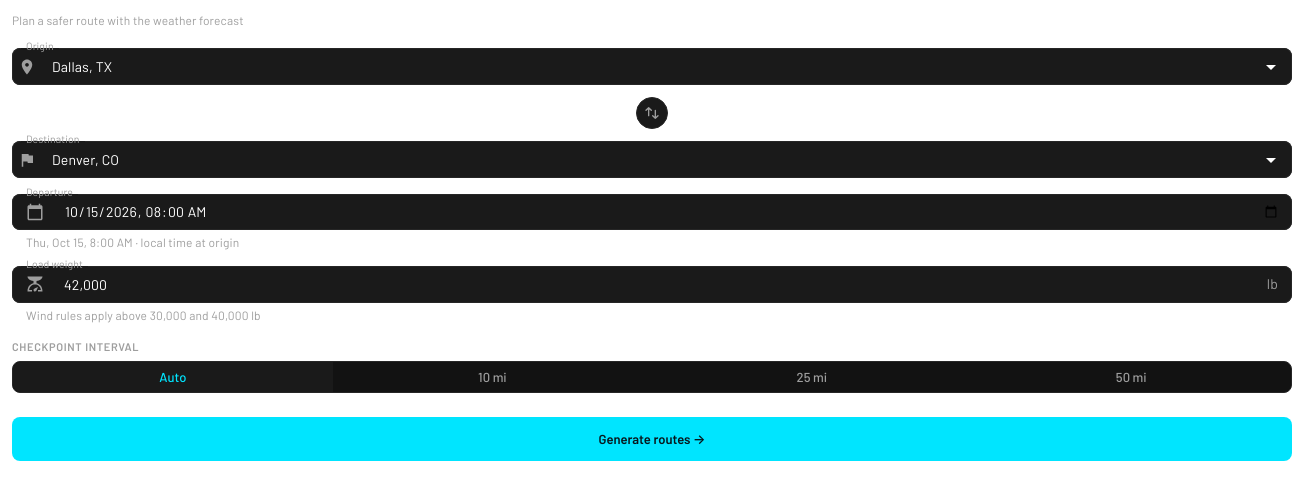
TripForm Component › renders server field errors under the right fields
This screenshot has width=1304, height=478.
Click the button with test id "generate-routes-button" at [652, 439], box x1=12 y1=417 x2=1292 y2=461
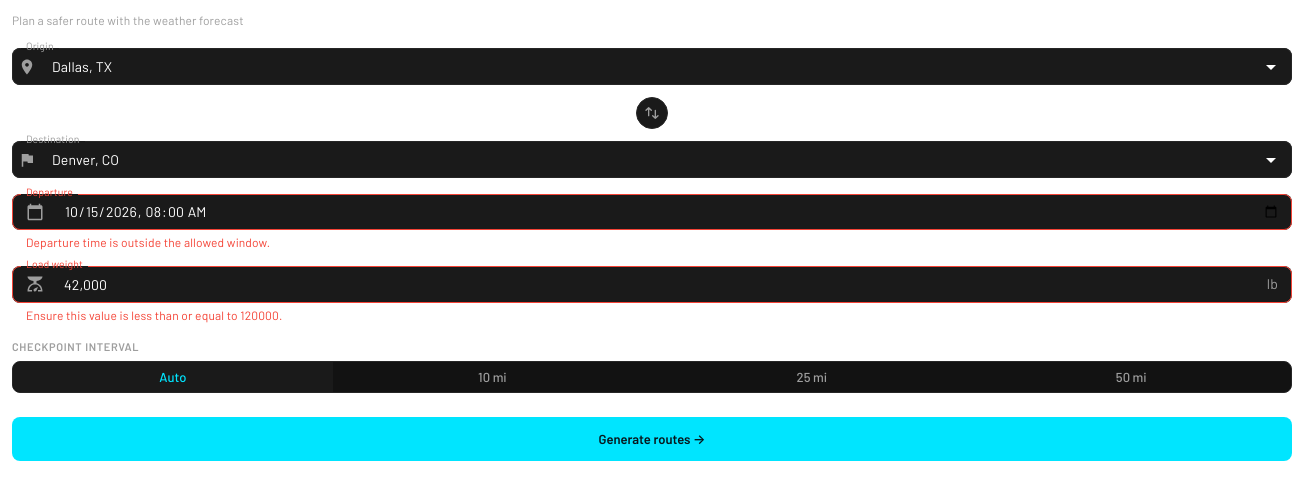
Expected: the text "Ensure this value is less than or equal to 120000." is shown, x1=26 y1=308 x2=282 y2=322
Expected: the text "Departure time is outside the allowed window." is shown, x1=26 y1=235 x2=270 y2=249
